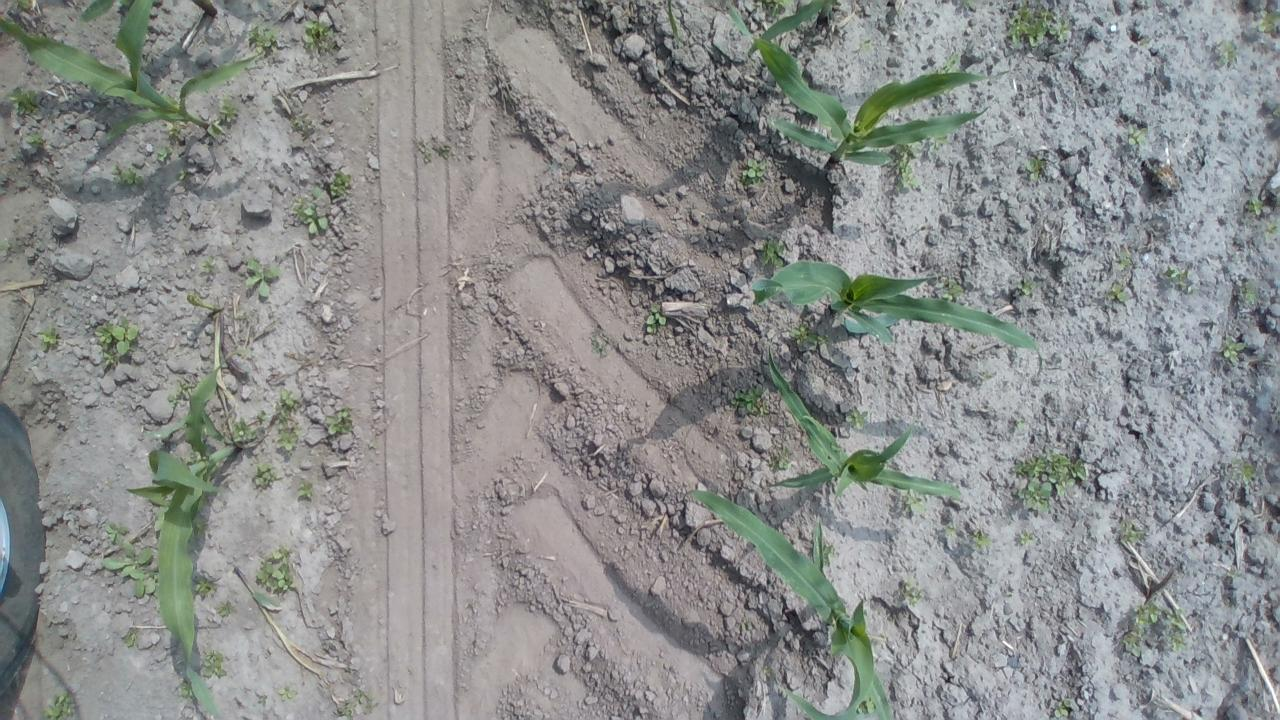Maize: (678, 484, 896, 720), (123, 352, 244, 720), (0, 0, 260, 147), (762, 342, 962, 500), (188, 291, 268, 453)
Weeds: (1015, 451, 1086, 519), (101, 520, 159, 600), (1122, 598, 1188, 654), (1008, 4, 1070, 50), (96, 317, 140, 367), (254, 546, 298, 592), (290, 187, 330, 236), (274, 386, 304, 451), (243, 259, 284, 299), (892, 141, 922, 192), (301, 16, 339, 56), (730, 386, 771, 419), (339, 689, 376, 720), (246, 22, 280, 55), (756, 238, 786, 272), (42, 690, 76, 720), (790, 324, 830, 348), (1164, 264, 1194, 295), (6, 86, 40, 113), (110, 162, 145, 187), (165, 376, 192, 408), (325, 406, 354, 435), (199, 647, 226, 678), (740, 157, 769, 185), (231, 413, 258, 443), (1222, 335, 1247, 366), (253, 462, 281, 488), (900, 488, 927, 514), (938, 278, 967, 302), (644, 304, 666, 334), (216, 95, 238, 124), (1231, 458, 1256, 483), (844, 406, 869, 431), (331, 170, 354, 197), (900, 578, 921, 606), (1257, 7, 1280, 32), (937, 50, 960, 75), (1120, 520, 1142, 546), (1014, 276, 1040, 298), (38, 324, 58, 352), (768, 444, 789, 470), (762, 0, 794, 17), (192, 575, 216, 596), (1102, 282, 1127, 302), (1024, 158, 1042, 184), (970, 528, 991, 550), (1217, 39, 1235, 64), (198, 254, 218, 275), (856, 694, 876, 715), (1125, 127, 1147, 146), (941, 523, 964, 540), (166, 120, 187, 138), (1054, 698, 1072, 719), (192, 516, 209, 538), (1241, 280, 1257, 303), (214, 600, 234, 618), (592, 336, 609, 356), (822, 544, 837, 566), (26, 132, 48, 146), (1263, 219, 1280, 237), (297, 481, 315, 498), (176, 681, 193, 699), (1246, 197, 1262, 216), (1118, 253, 1134, 272), (278, 687, 298, 702), (932, 134, 949, 151), (121, 630, 138, 647), (255, 690, 271, 706), (237, 347, 255, 360), (184, 450, 202, 463), (440, 144, 452, 162), (176, 168, 191, 182), (1018, 530, 1033, 544), (157, 146, 170, 162), (860, 37, 873, 52), (978, 370, 994, 382), (292, 118, 306, 130), (1227, 567, 1242, 578), (10, 0, 29, 8), (762, 664, 774, 676), (257, 410, 272, 419), (1014, 418, 1024, 429), (958, 0, 976, 6), (425, 148, 432, 162)
